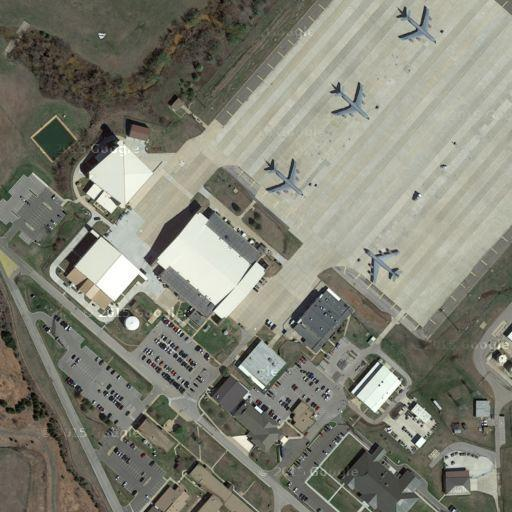KC-135: (324, 79, 374, 124), (260, 153, 307, 199), (357, 243, 404, 284), (395, 4, 439, 47)
